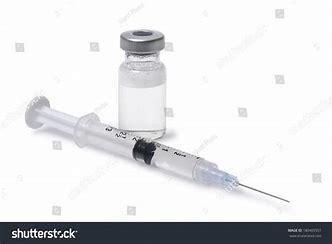Syringe: (16, 92, 295, 204), (110, 25, 179, 141)
